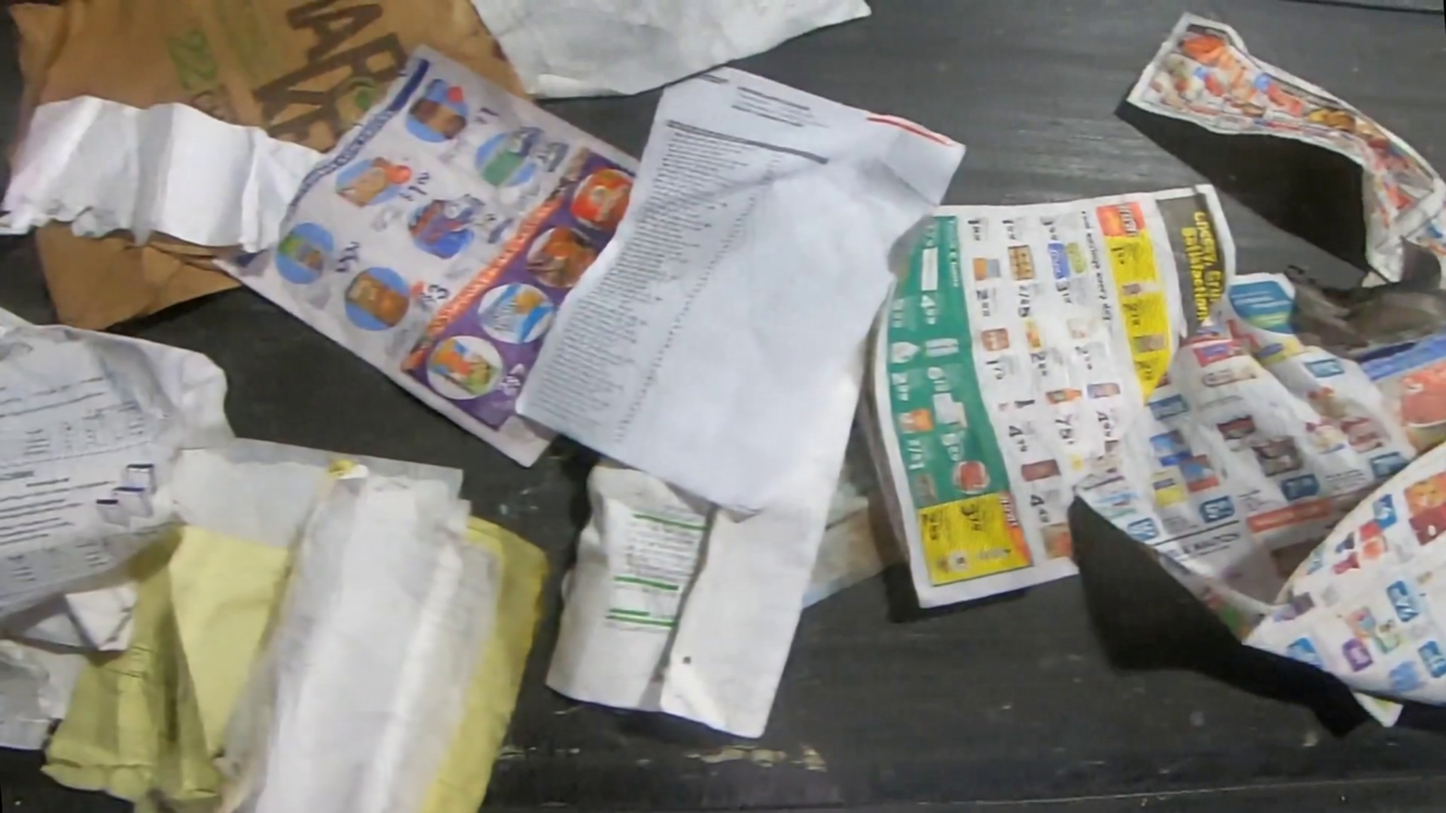cardboard: (9, 1, 533, 158), (28, 221, 248, 333)
